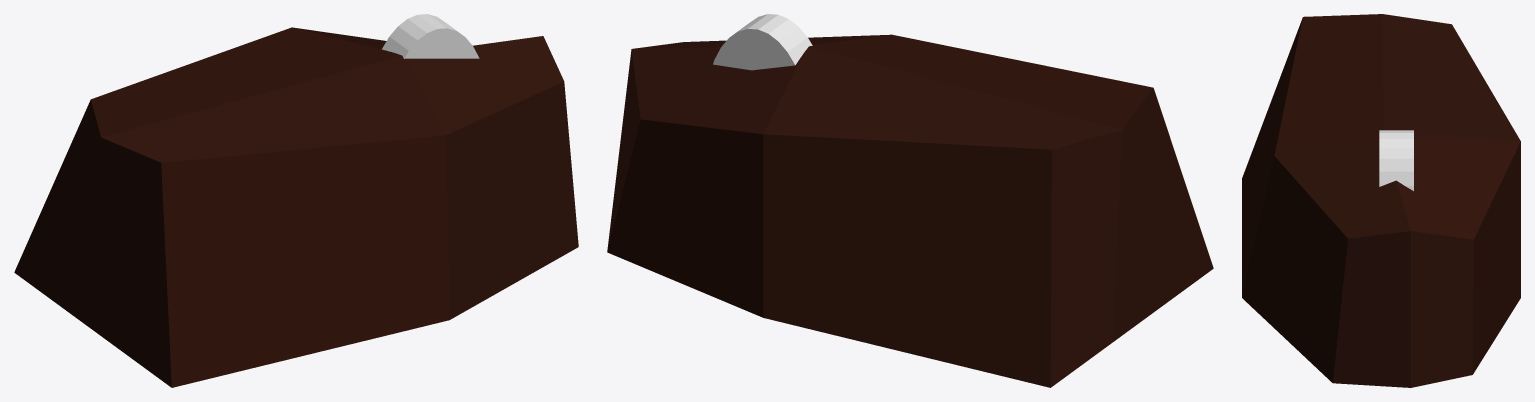
The model's file is Mouse.fbx.
3 renders of one model, left to right at view 1: azimuth 30°, elevation 25°; view 2: azimuth 150°, elevation 25°; view 3: azimuth 270°, elevation 25°, orthographic. The views are drawn at different scales.
Visible parts, largest first — view 1: Cube, Cylinder; view 2: Cube, Cylinder; view 3: Cube, Cylinder.
Part boxes in pixels (<box>): Cube: <box>14,27,578,387</box>; Cylinder: <box>382,14,479,58</box>; Cube: <box>607,34,1213,387</box>; Cylinder: <box>713,14,812,70</box>; Cube: <box>1242,14,1520,387</box>; Cylinder: <box>1379,130,1413,190</box>.
Bounding box in the file's own units: 551 × 257 × 322.
